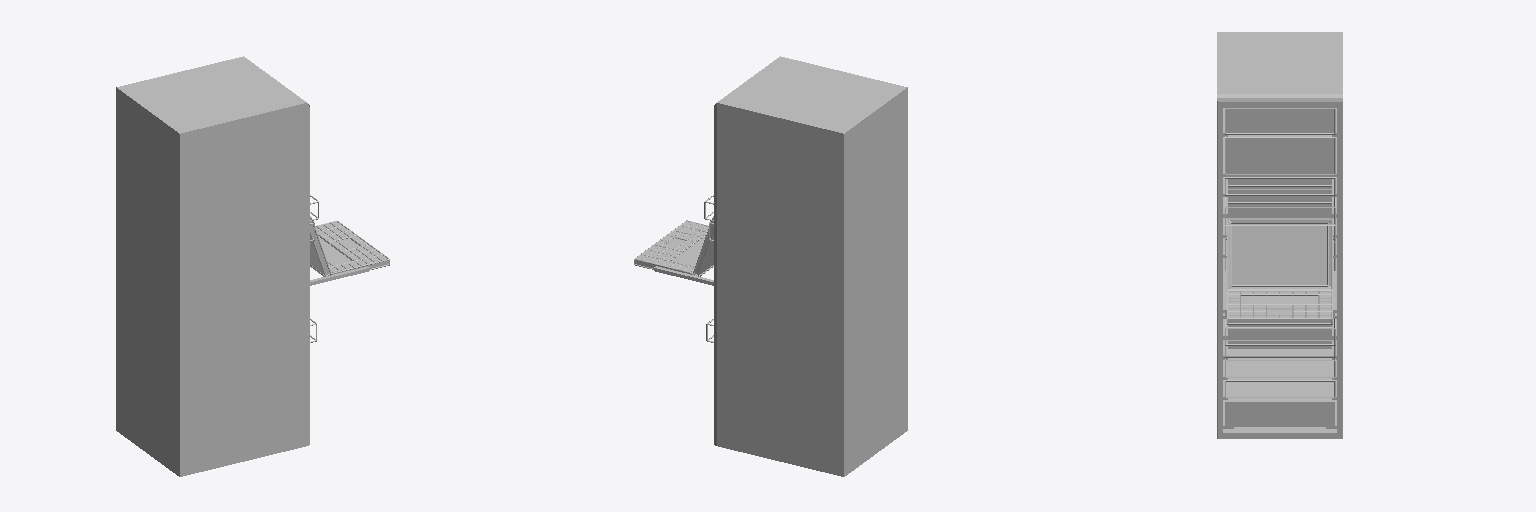
The picture shows the model from 3 angles: view 1: azimuth 30°, elevation 25°; view 2: azimuth 150°, elevation 25°; view 3: azimuth 270°, elevation 25°; orthographic projection.
Visible parts, largest first — view 1: rack_Cube1_auv, console_console_auv_1, console_console_auv; view 2: rack_Cube1_auv, console_console_auv_1, console_console_auv; view 3: rack_Cube1_auv, console_console_auv_1, misc1_Cube12_auv, ups_Cube12_auv_1, misc2_Cube12_auv_1, console_console_auv.
Boxes of the visible parts, x1=… form: rack_Cube1_auv: x1=116, y1=56, x2=309, y2=476; console_console_auv_1: x1=310, y1=219, x2=388, y2=274; console_console_auv: x1=310, y1=216, x2=389, y2=276; rack_Cube1_auv: x1=714, y1=56, x2=907, y2=476; console_console_auv_1: x1=635, y1=219, x2=713, y2=274; console_console_auv: x1=634, y1=216, x2=713, y2=276; rack_Cube1_auv: x1=1217, y1=32, x2=1342, y2=438; console_console_auv_1: x1=1228, y1=220, x2=1330, y2=322; misc1_Cube12_auv: x1=1225, y1=349, x2=1334, y2=426; ups_Cube12_auv_1: x1=1226, y1=135, x2=1333, y2=173; misc2_Cube12_auv_1: x1=1226, y1=109, x2=1333, y2=132; console_console_auv: x1=1227, y1=218, x2=1332, y2=324.
Size of the model in its own units: 3.39 by 5.15 by 1.72.